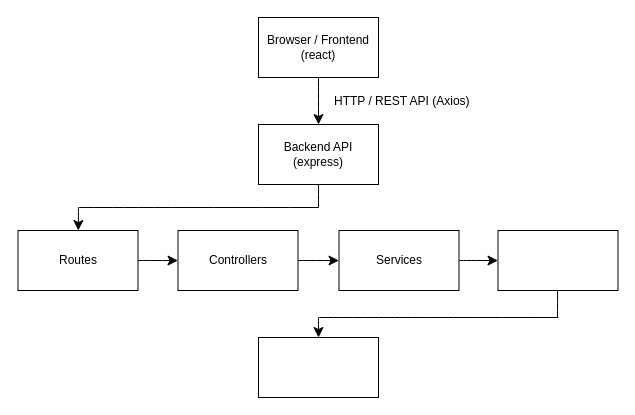
This 635x415 diagram has some shape labels left out. Each missing label, with the centre of its shape:
MongoDB (Docker Container): the point at 318,367
Repositories: the point at 557,260
